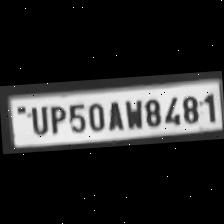0: (82, 99, 106, 132)
1: (198, 89, 220, 123)
4: (160, 93, 180, 126)
5: (64, 100, 86, 134)
8: (139, 95, 161, 128), (178, 92, 200, 125)
A: (103, 97, 123, 131)
P: (44, 102, 66, 136)
U: (25, 102, 50, 136)
W: (120, 96, 142, 130)
